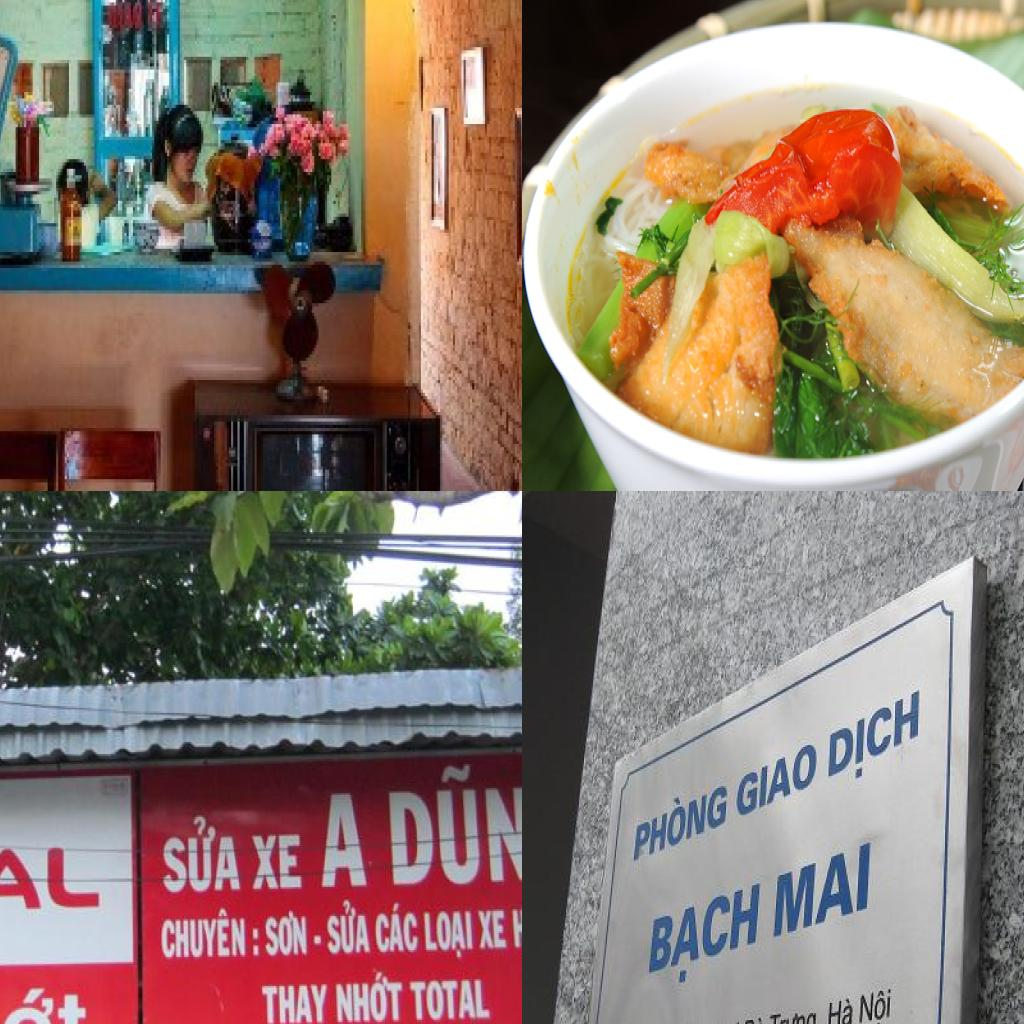text: (382, 765, 522, 890), (646, 878, 764, 994), (827, 680, 922, 795), (772, 836, 873, 942), (0, 827, 109, 917), (632, 771, 732, 868), (735, 733, 820, 824), (157, 812, 243, 897), (160, 907, 262, 964), (318, 790, 372, 890), (0, 976, 99, 1024), (408, 978, 495, 1024), (333, 969, 405, 1024), (247, 827, 303, 892), (258, 979, 331, 1024), (324, 896, 374, 957), (422, 906, 476, 962), (374, 901, 420, 955), (265, 911, 312, 960), (856, 982, 895, 1024), (476, 906, 506, 955), (766, 1001, 823, 1024), (826, 991, 856, 1024), (741, 1015, 766, 1024)
